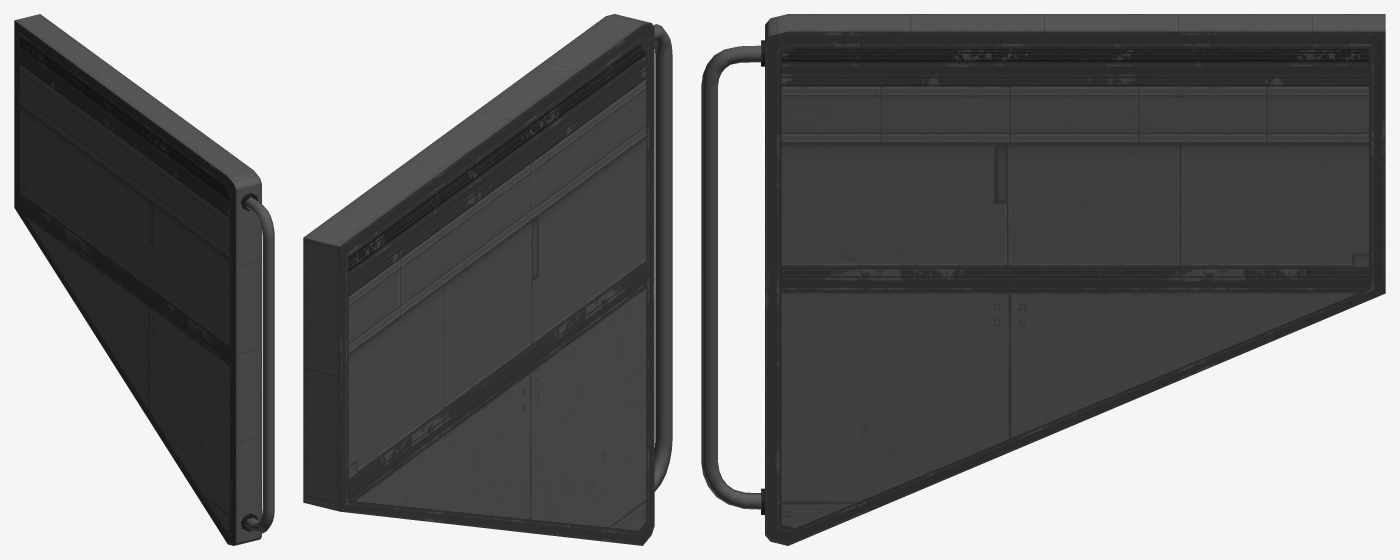
File: Subway_wall_3B_side1_L1.fbx
The picture shows the model from 3 angles, left to right: view 1: azimuth 30°, elevation 25°; view 2: azimuth 150°, elevation 25°; view 3: azimuth 270°, elevation 25°; orthographic projection. The views are drawn at different scales.
Parts seen in each view (by area): view 1: polySurface267; view 2: polySurface267; view 3: polySurface267.
Boxes of the visible parts, left/top/right/bottom form: polySurface267: left=14, top=14, right=274, bottom=545; polySurface267: left=303, top=14, right=672, bottom=545; polySurface267: left=701, top=14, right=1385, bottom=545.
Bounding box in the file's own units: 15.46 × 209 × 251.
